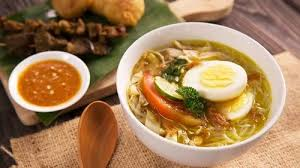Soto: (128, 29, 275, 152)
